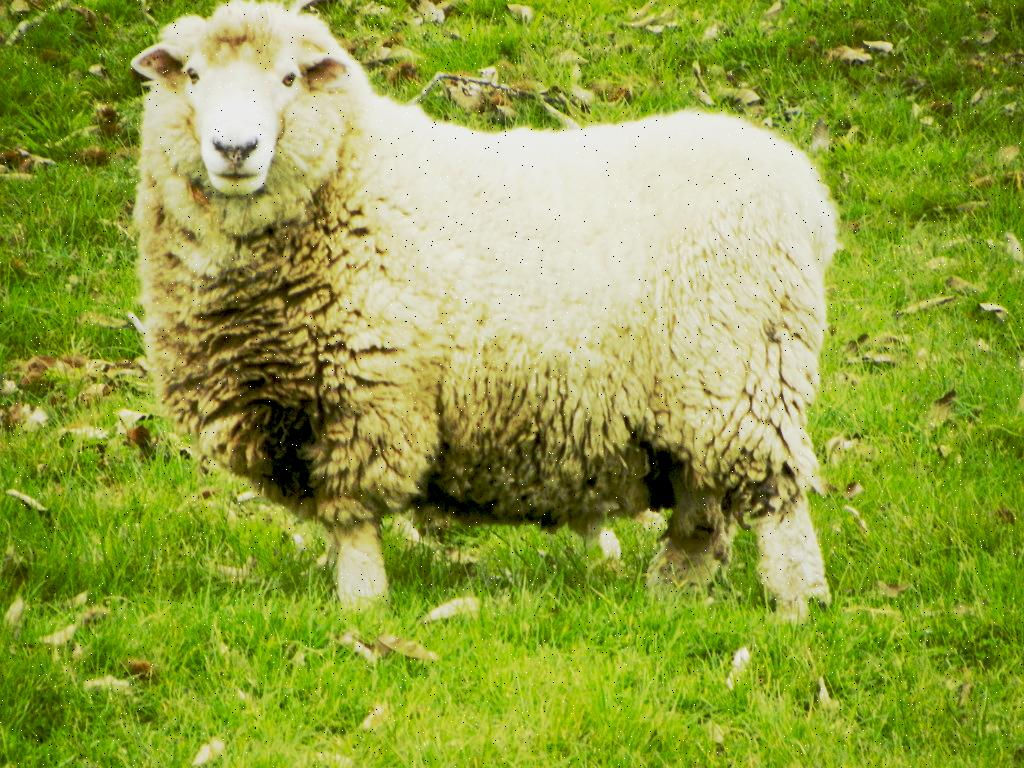Sheep: (129, 0, 837, 620)
